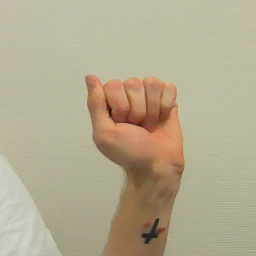A: (82, 72, 191, 168)
